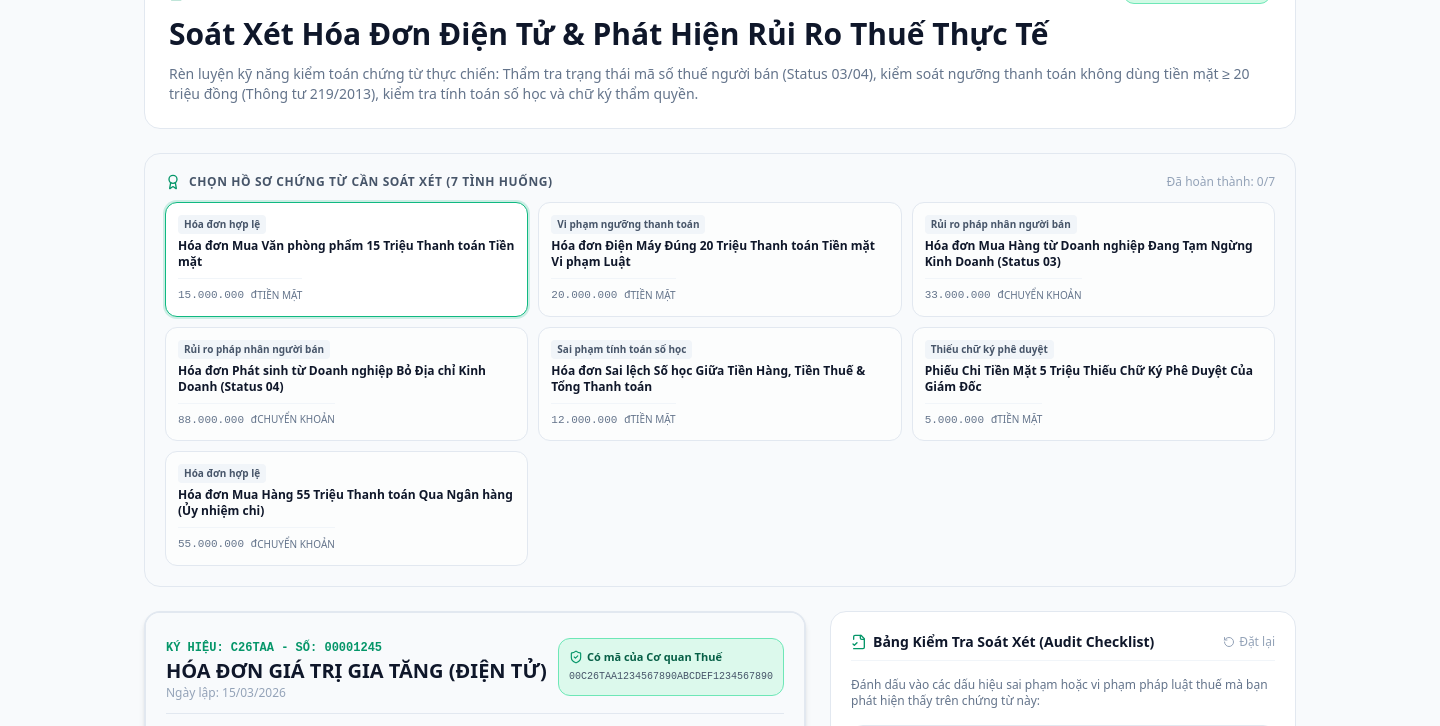
Test: COMPREHENSIVE TAX COMPLIANCE & FRAUD GUARDRAILS (MILESTONE 5 / R5) › 5. VoucherInspector Workbench Integration › should display runaway fraud warning for Case 4 (Status 04)
The image size is (1440, 726).
Step 1. Click the text "Hóa đơn Phát sinh từ Doanh nghiệp Bỏ Địa chỉ" → (347, 378), box [178,362,515,394]
(page scrolled)
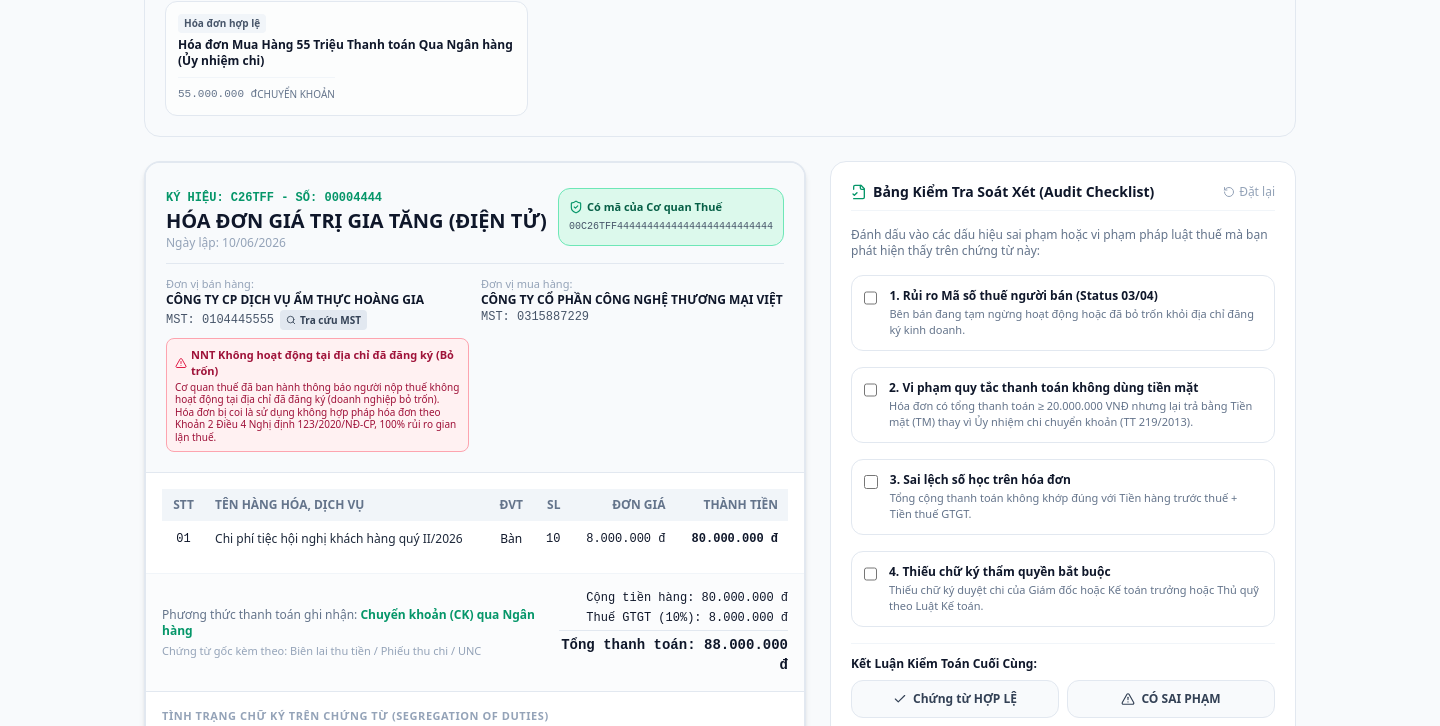
Expected: the element with test id "vendor-tax-status-warning" is shown, [166,338,469,452]
Expected: the text "NNT Không hoạt động tại địa chỉ đã đăng ký (Bỏ trốn)" is shown, [191,346,460,378]
